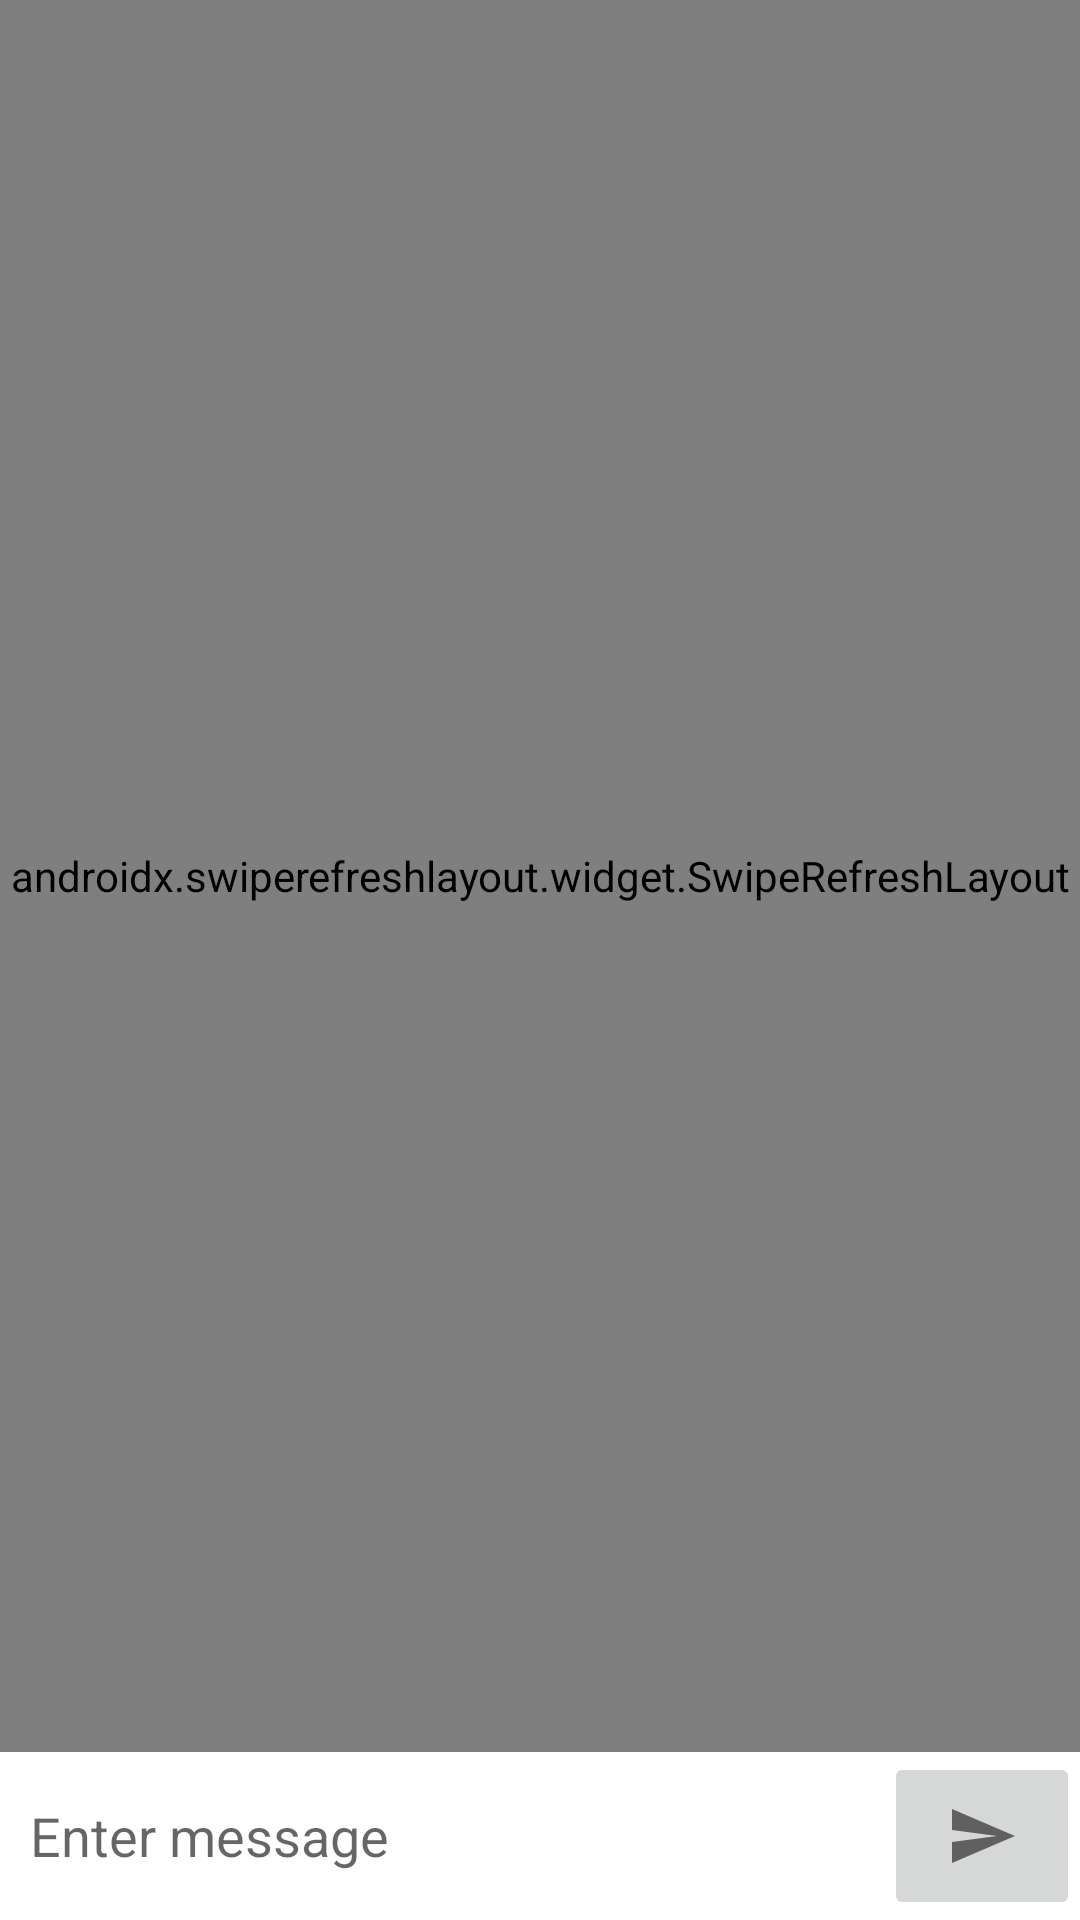

Where icons sit on this 1080px×1920px app screen, as {"x1": x1, "y1": y1, "x2": x2, "y2": y2}:
send: {"x1": 896, "y1": 1770, "x2": 1068, "y2": 1902}
